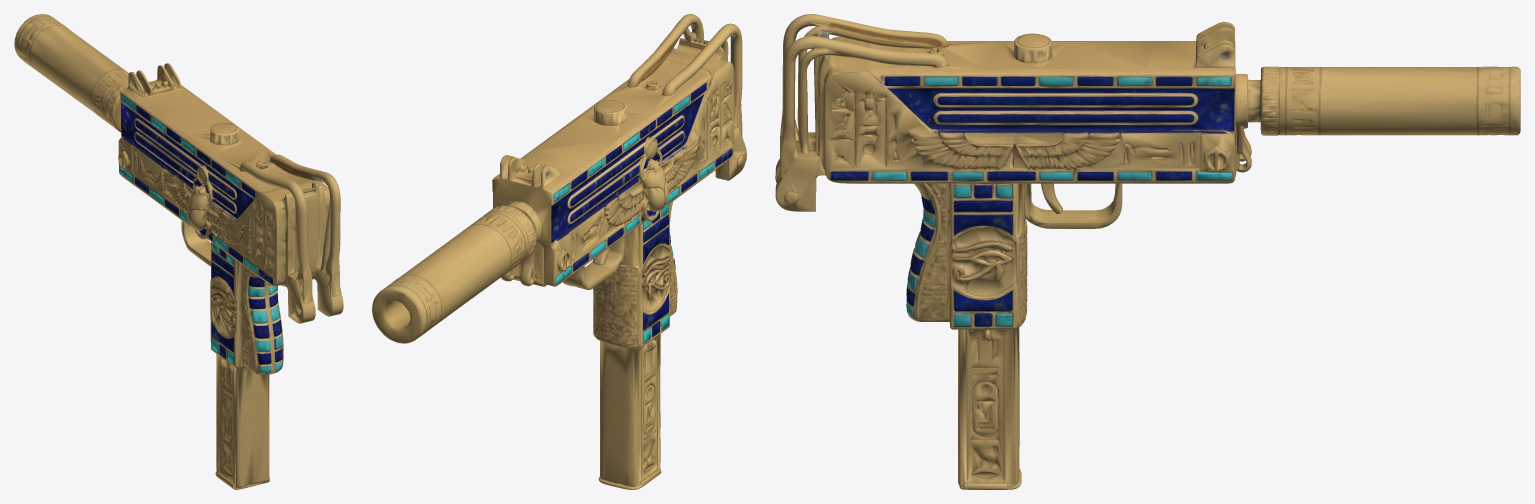
Rendered from mac10_firavun.glb.
3 views of the same model, side by side, from view 1: azimuth 30°, elevation 25°; view 2: azimuth 150°, elevation 25°; view 3: azimuth 270°, elevation 25° (orthographic). The views are drawn at different scales.
Parts seen in each view (by area): view 1: govde; view 2: govde; view 3: govde.
Part boxes in pixels (x1,y1,x2,y2): govde: (14,14,343,489); govde: (372,14,746,489); govde: (775,14,1520,489).
Bounding box in the file's own units: 0.0664 × 0.2959 × 0.4409.
1 material, 1 textured.
